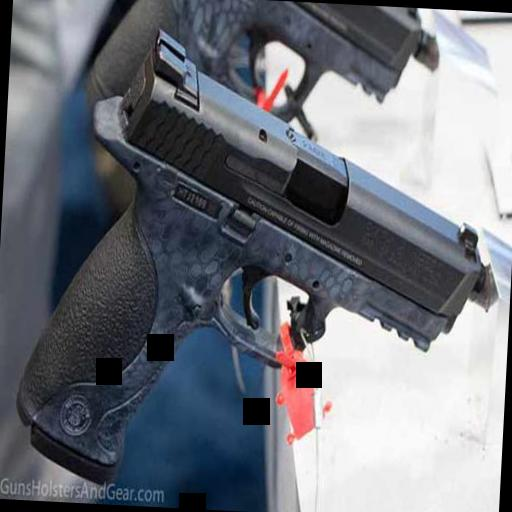Handgun: (10, 19, 504, 473)
